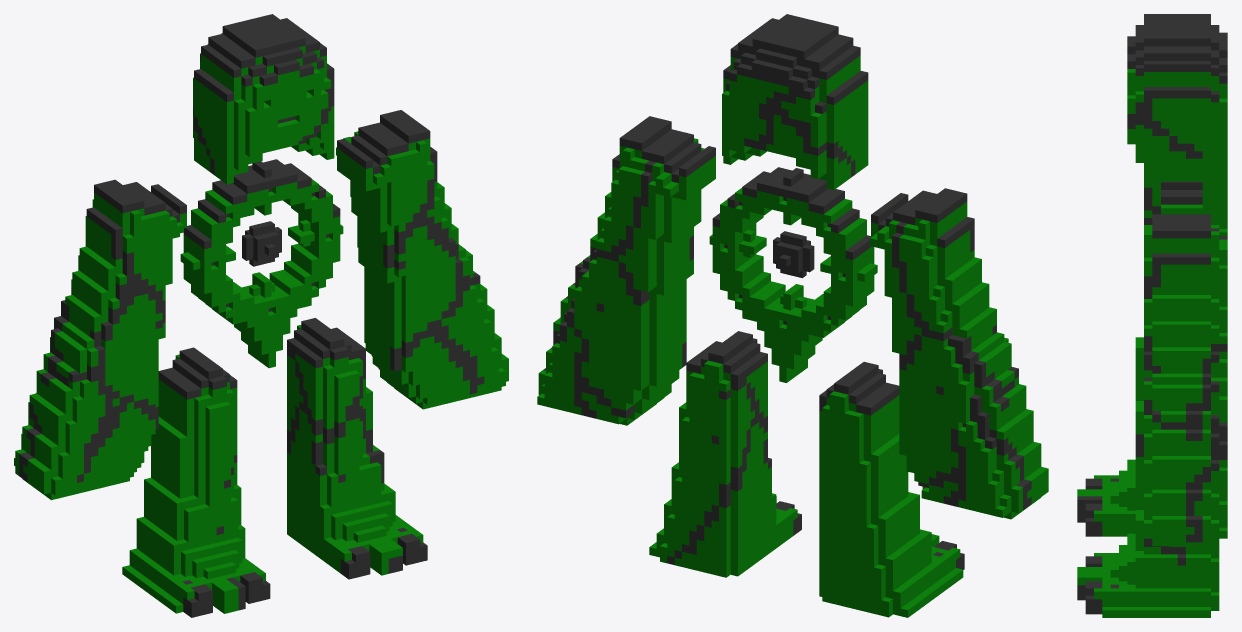
The model's file is Mst_Giant_Model.fbx.
The picture shows the model from 3 angles, left to right: view 1: azimuth 30°, elevation 25°; view 2: azimuth 150°, elevation 25°; view 3: azimuth 270°, elevation 25°; orthographic projection. The views are drawn at different scales.
Parts seen in each view (by area): view 1: mst_giant; view 2: mst_giant; view 3: mst_giant.
Part boxes in pixels (<box>): mst_giant: <box>14,14,508,617</box>; mst_giant: <box>537,14,1048,617</box>; mst_giant: <box>1077,14,1227,617</box>.
Bounding box in the file's own units: 6500 × 7000 × 1800.
